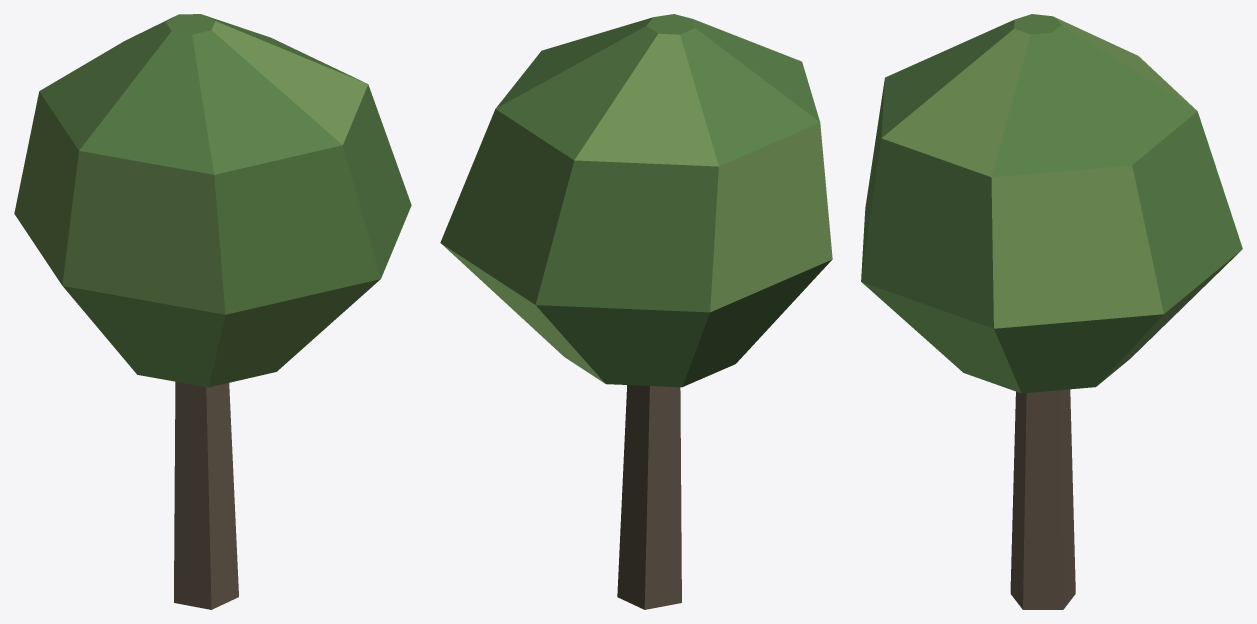
The model's file is Tree_Broadleaf.fbx.
3 renders of one model, left to right at view 1: azimuth 30°, elevation 25°; view 2: azimuth 150°, elevation 25°; view 3: azimuth 270°, elevation 25°, orthographic. The views are drawn at different scales.
Visible parts, largest first — view 1: Tree_Broadleaf; view 2: Tree_Broadleaf; view 3: Tree_Broadleaf.
Boxes of the visible parts, left/top/right/bottom form: Tree_Broadleaf: left=14, top=14, right=411, bottom=609; Tree_Broadleaf: left=440, top=14, right=832, bottom=609; Tree_Broadleaf: left=861, top=14, right=1242, bottom=609.
Bounding box in the file's own units: 1.25 × 2 × 1.22.
